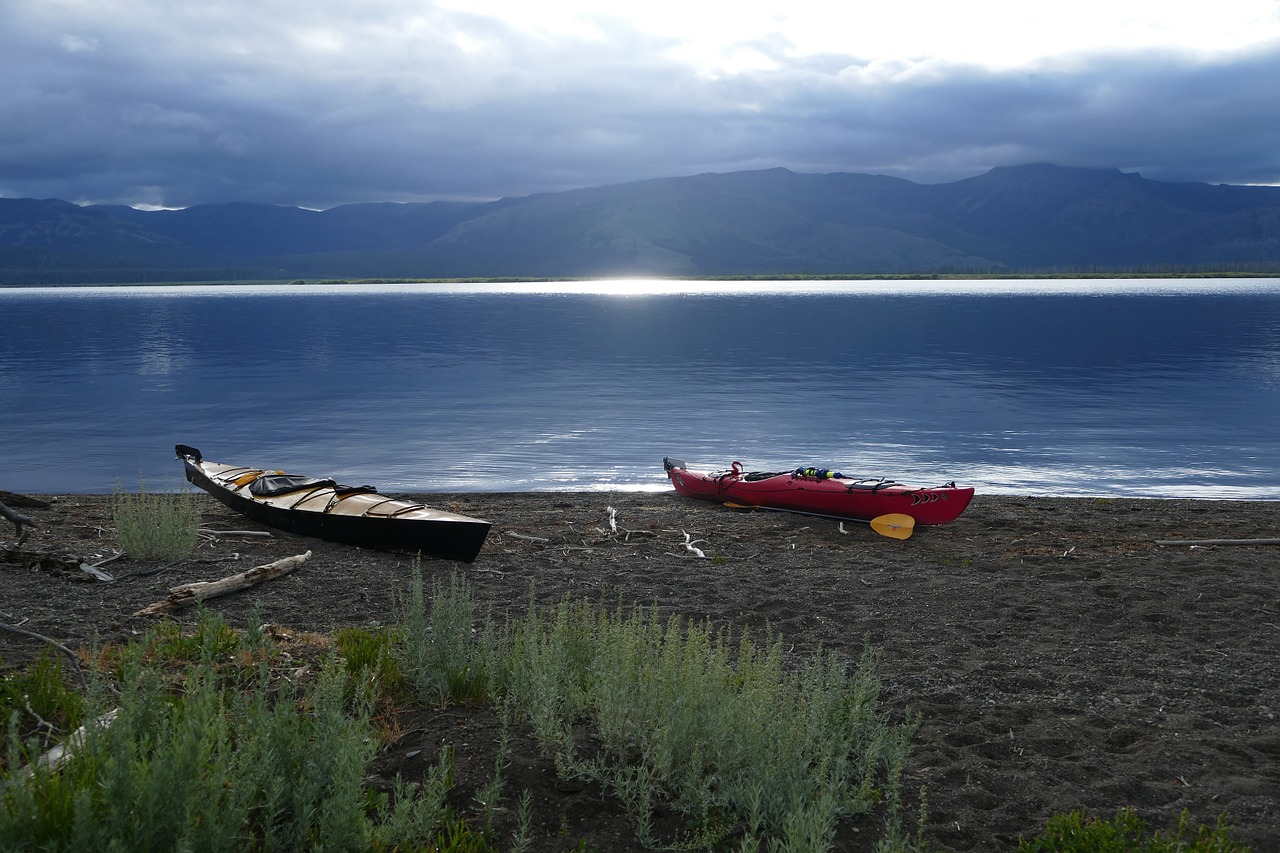kayak: (173, 443, 495, 561), (662, 455, 977, 527)
